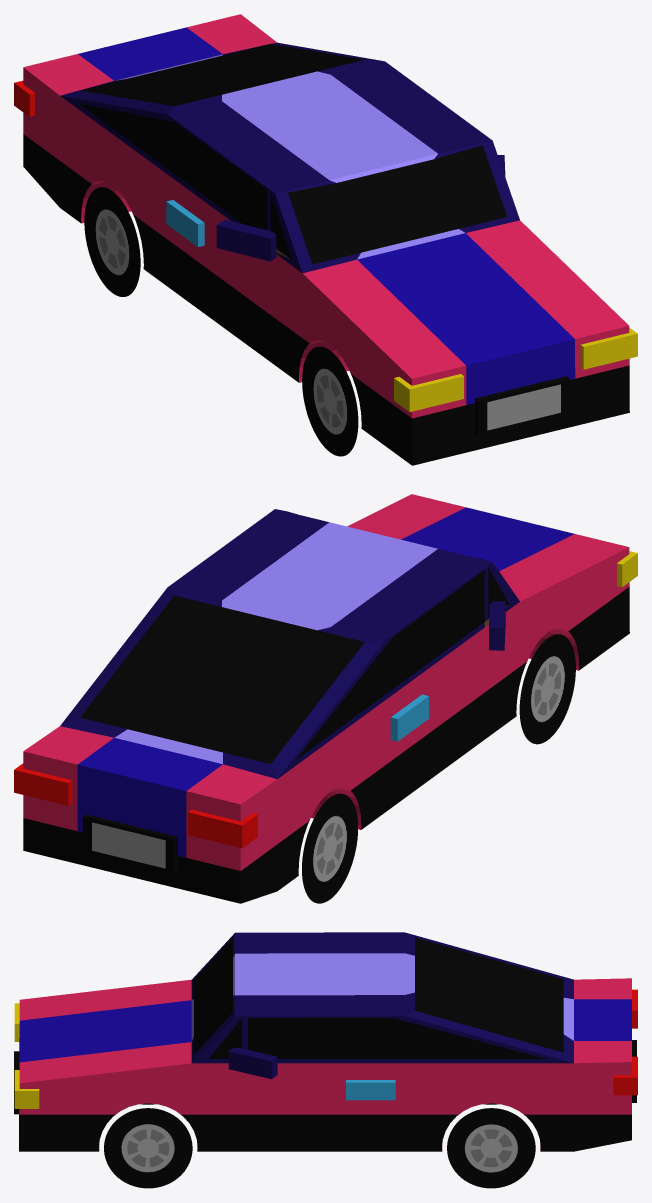
Rendered from Mobil_1_Pink_D.fbx.
3 renders of one model, top to bottom at view 1: azimuth 30°, elevation 25°; view 2: azimuth 150°, elevation 25°; view 3: azimuth 270°, elevation 25°, orthographic. The views are drawn at different scales.
Parts seen in each view (by area): view 1: Mobil1; view 2: Mobil1; view 3: Mobil1.
Part boxes in pixels (bbox=[...]): Mobil1: bbox=[14, 14, 637, 465]; Mobil1: bbox=[14, 494, 637, 903]; Mobil1: bbox=[14, 932, 637, 1188].
Size of the model in its own units: 529 by 385 by 1261.
Materials: 6 (4 with a texture image).
